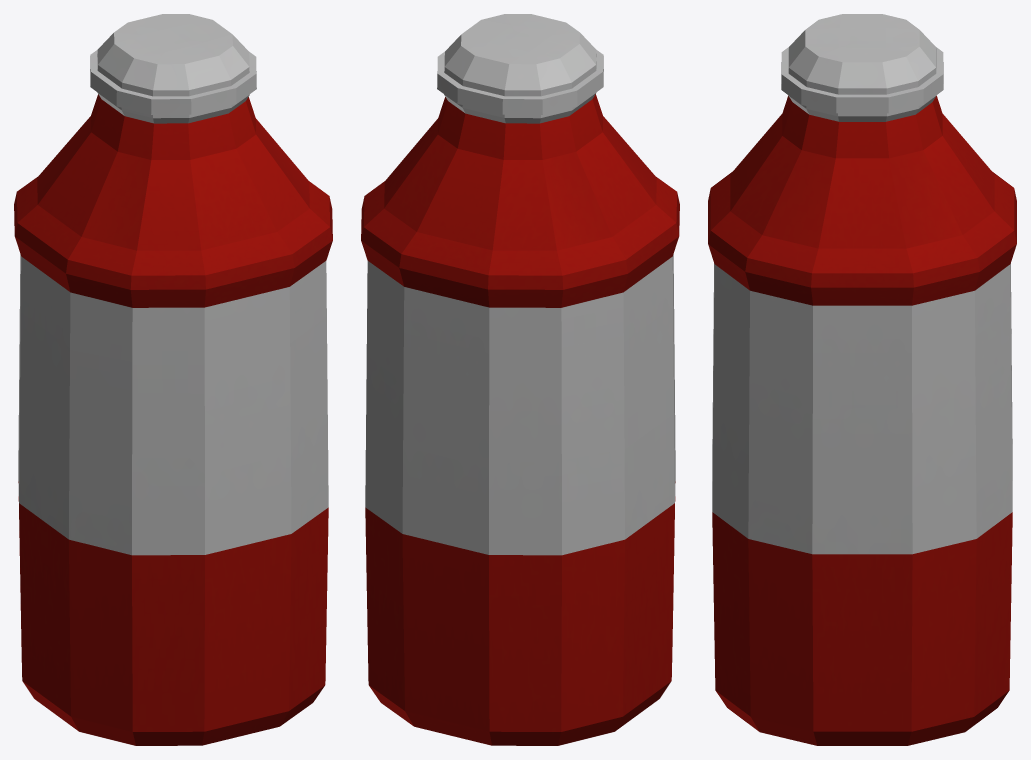
The model's file is small_bottle_tall_1.fbx.
3 views of the same model, side by side, from view 1: azimuth 30°, elevation 25°; view 2: azimuth 150°, elevation 25°; view 3: azimuth 270°, elevation 25° (orthographic).
Parts seen in each view (by area): view 1: small_bottle_tall_1; view 2: small_bottle_tall_1; view 3: small_bottle_tall_1.
Boxes of the visible parts, x1,y1,x2,y2 form: small_bottle_tall_1: (14, 14, 332, 745); small_bottle_tall_1: (361, 14, 679, 745); small_bottle_tall_1: (708, 14, 1016, 745).
Size of the model in its own units: 0.0767 by 0.1784 by 0.0767.
